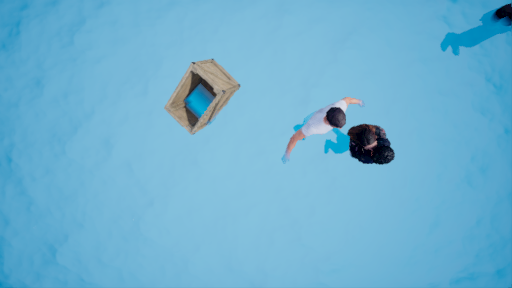person: (276, 91, 396, 180)
